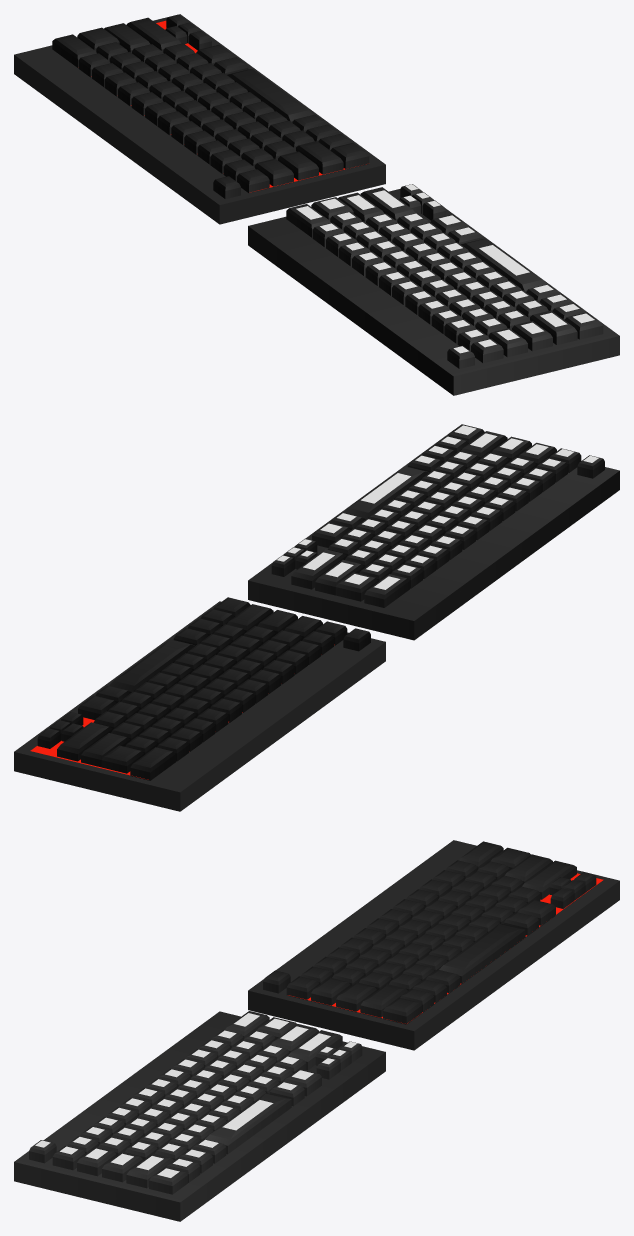
File: TastaturaGaming.glb
3 renders of one model, top to bottom at view 1: azimuth 30°, elevation 25°; view 2: azimuth 150°, elevation 25°; view 3: azimuth 330°, elevation 25°, orthographic.
Visible parts, largest first — view 1: Cube.010, Cube.101; view 2: Cube.010, Cube.101; view 3: Cube.010, Cube.101.
Boxes of the visible parts, x1,y1,x2,y2 form: Cube.010: (248, 184, 619, 395); Cube.101: (14, 14, 385, 224); Cube.010: (248, 424, 619, 640); Cube.101: (14, 597, 385, 811); Cube.010: (14, 1011, 385, 1221); Cube.101: (248, 840, 619, 1050).
Size of the model in its own units: 0.8939 by 0.1754 by 4.09.
2 materials, 1 textured.
